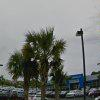Palm tree: (7, 21, 71, 100)
